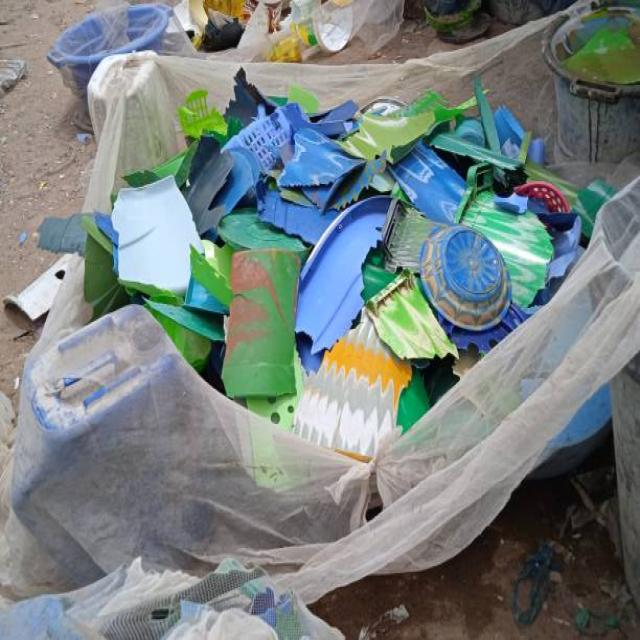plastic: (156, 82, 525, 399)
